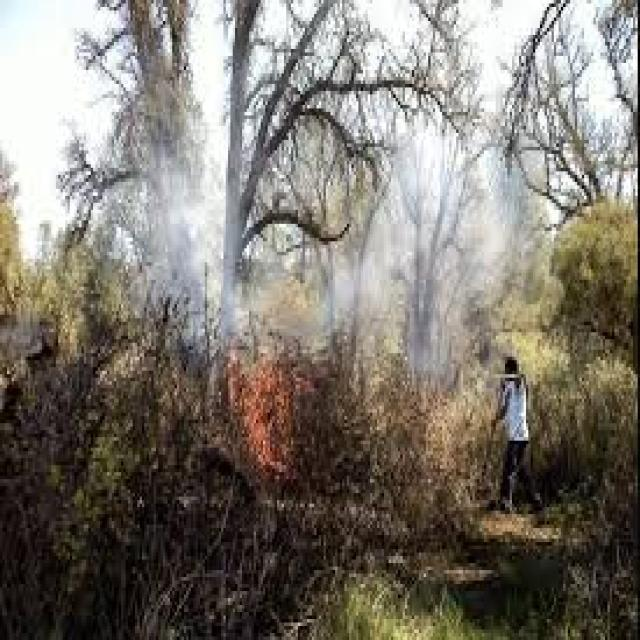Fire: (223, 328, 306, 499)
Smoke: (402, 150, 507, 330), (176, 154, 233, 306), (313, 251, 400, 314)
